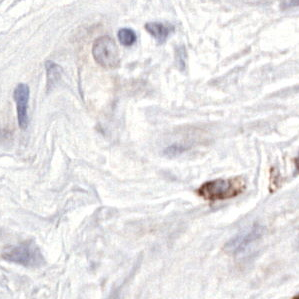Lymphocyte: (198, 176, 245, 201)
